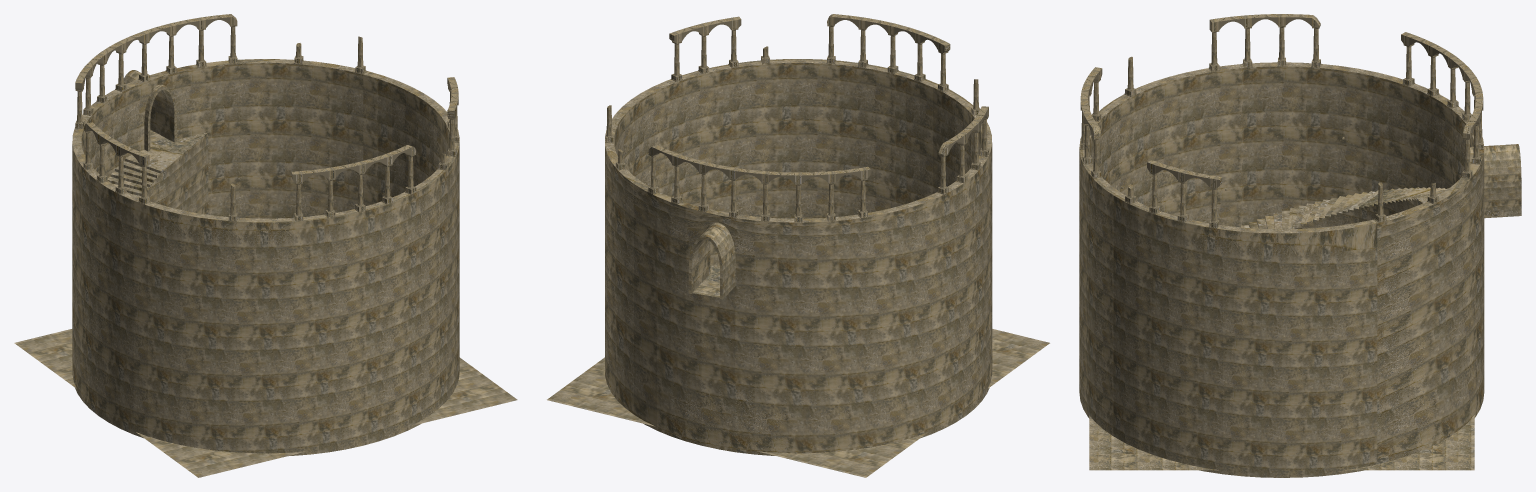
Rendered from cistern.fbx.
3 renders of one model, left to right at view 1: azimuth 30°, elevation 25°; view 2: azimuth 150°, elevation 25°; view 3: azimuth 270°, elevation 25°, orthographic. The views are drawn at different scales.
Visible parts, largest first — view 1: Cistern; view 2: Cistern; view 3: Cistern.
Part boxes in pixels (bbox=[...]): Cistern: bbox=[14, 14, 517, 477]; Cistern: bbox=[547, 14, 1049, 477]; Cistern: bbox=[1079, 14, 1521, 477].
Bounding box in the file's own units: 4202 × 3359 × 4589.
